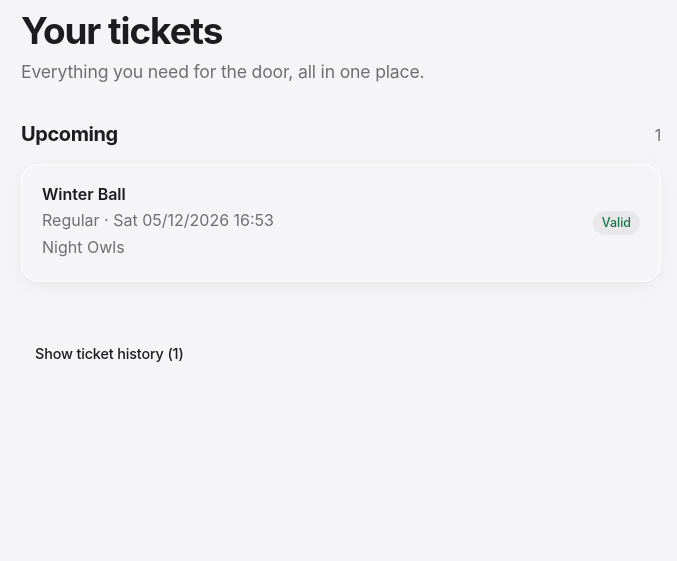
Test: TicketsPage › shows upcoming tickets, and past ones only when the history is opened
Expected: the text "Winter Ball" is shown, x1=42 y1=184 x2=126 y2=204
Expected: the text "Halloween Party" is not shown
Click the button "Show ticket history (1)" at coordinates (109, 354), box x1=21 y1=337 x2=198 y2=371
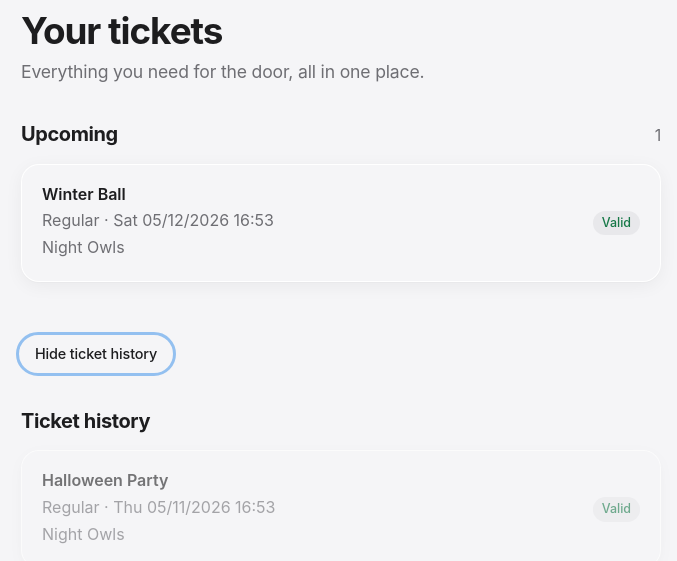
Expected: the heading "Ticket history" is shown, x1=21 y1=407 x2=150 y2=436
Expected: the text "Halloween Party" is shown, x1=42 y1=470 x2=168 y2=490
Click the button "Hide ticket history" at coordinates (96, 354), box x1=21 y1=337 x2=171 y2=371
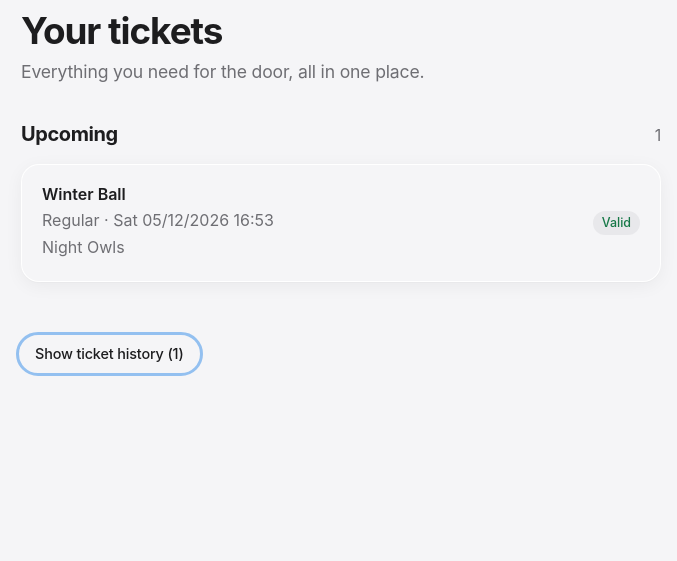
Expected: the button "Halloween Party" is gone
